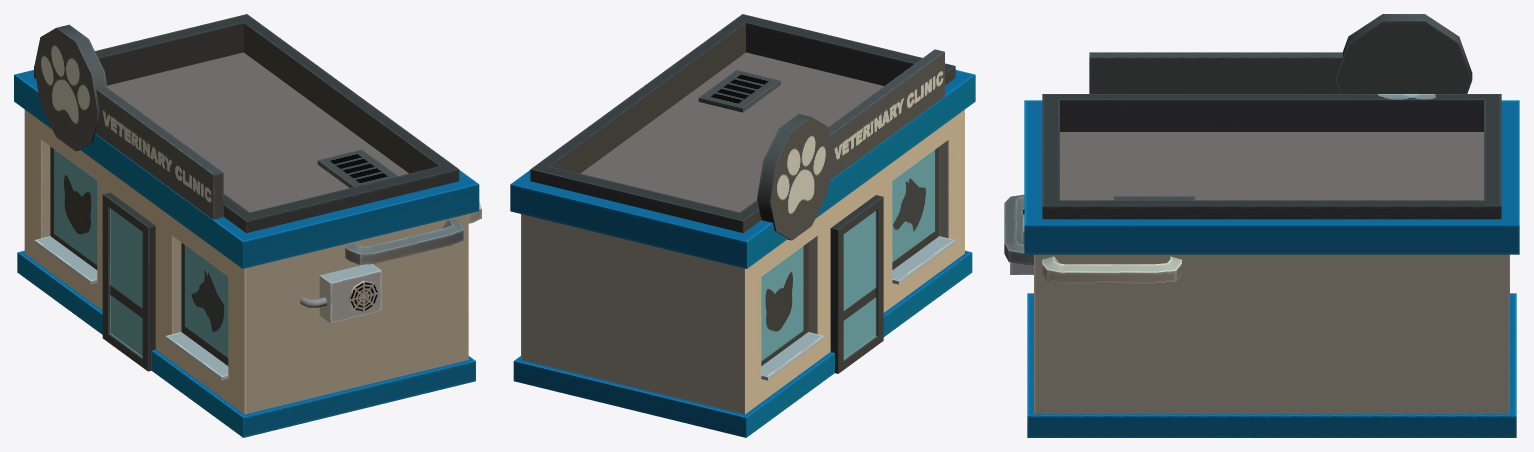
Rendered from Vet.glb.
3 renders of one model, left to right at view 1: azimuth 30°, elevation 25°; view 2: azimuth 150°, elevation 25°; view 3: azimuth 270°, elevation 25°, orthographic. The views are drawn at different scales.
Visible parts, largest first — view 1: Object002; view 2: Object002; view 3: Object002.
Part boxes in pixels (x1=…): Object002: x1=14, y1=14, x2=481, y2=437; Object002: x1=510, y1=14, x2=975, y2=437; Object002: x1=1004, y1=14, x2=1519, y2=437.
Size of the model in its own units: 2.01 by 2.08 by 3.24.
Materials: 1 (1 with a texture image).
